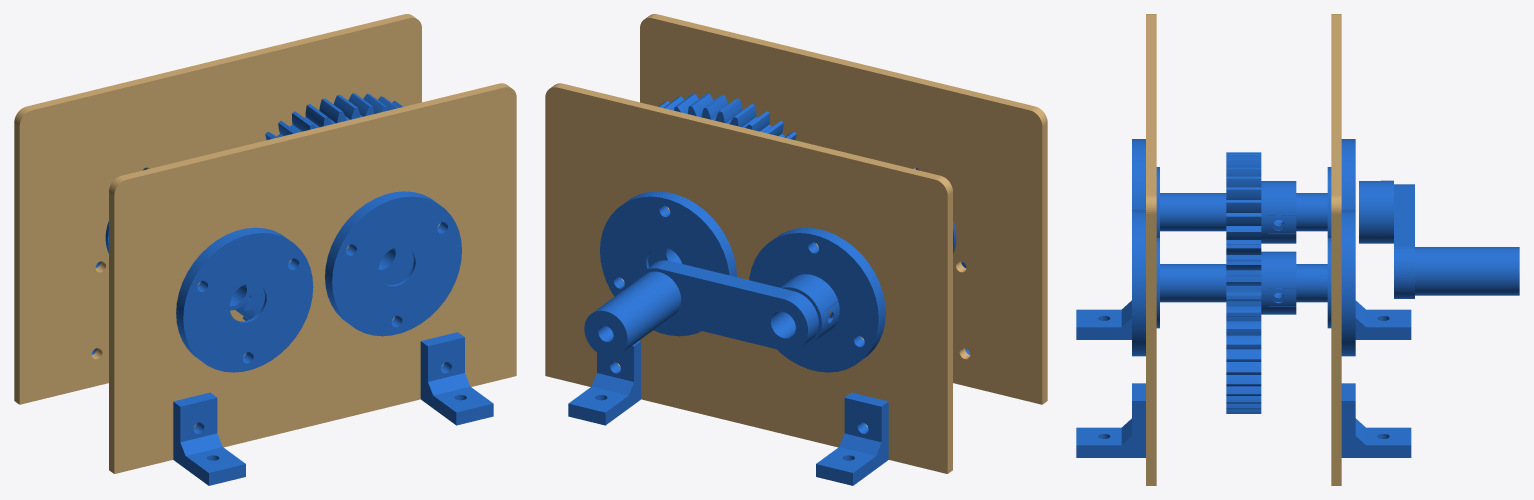
File: m02_baugruppe.glb
The picture shows the model from 3 angles, left to right: view 1: azimuth 30°, elevation 25°; view 2: azimuth 150°, elevation 25°; view 3: azimuth 270°, elevation 25°; orthographic projection. The views are drawn at different scales.
Visible parts, largest first — view 1: M02-P01_2, M02-P01_1, M02-P02_4, M02-P02_3, M02-P07_4, M02-P07_2, M02-P04_1; view 2: M02-P01_1, M02-P01_2, M02-P08_1, M02-P02_1, M02-P02_2, M02-P09_1, M02-P07_1, M02-P07_3, M02-P04_1; view 3: M02-P04_1, M02-P01_1, M02-P01_2, M02-P09_1, M02-P08_1, M02-P07_3, M02-P07_4, M02-P02_2, M02-P06_1, M02-P06_2, M02-P02_4, M02-P03_1 (+6 smaller).
Part boxes in pixels (bbox=[...]): M02-P01_2: bbox=[109, 83, 516, 473]; M02-P01_1: bbox=[14, 14, 421, 404]; M02-P02_4: bbox=[325, 191, 461, 336]; M02-P02_3: bbox=[176, 227, 313, 372]; M02-P07_4: bbox=[420, 332, 493, 425]; M02-P07_2: bbox=[173, 392, 245, 485]; M02-P04_1: bbox=[235, 93, 413, 320]; M02-P01_1: bbox=[545, 83, 952, 473]; M02-P01_2: bbox=[640, 14, 1047, 404]; M02-P08_1: bbox=[636, 260, 839, 351]; M02-P02_1: bbox=[749, 227, 885, 372]; M02-P02_2: bbox=[600, 191, 736, 336]; M02-P09_1: bbox=[584, 271, 681, 357]; M02-P07_1: bbox=[816, 392, 888, 485]; M02-P07_3: bbox=[568, 340, 641, 425]; M02-P04_1: bbox=[648, 93, 796, 266]; M02-P04_1: bbox=[1226, 152, 1296, 413]; M02-P01_1: bbox=[1331, 14, 1341, 485]; M02-P01_2: bbox=[1146, 14, 1156, 485]; M02-P09_1: bbox=[1415, 247, 1519, 295]; M02-P08_1: bbox=[1359, 180, 1414, 298]; M02-P07_3: bbox=[1341, 383, 1411, 457]; M02-P07_4: bbox=[1076, 383, 1145, 457]; M02-P02_2: bbox=[1327, 210, 1355, 356]; M02-P06_1: bbox=[1160, 193, 1226, 231]; M02-P06_2: bbox=[1160, 264, 1226, 302]; M02-P02_4: bbox=[1132, 210, 1159, 356]; M02-P03_1: bbox=[1261, 181, 1296, 243].
Bounding box in the file's own units: 130 × 90 × 127.
